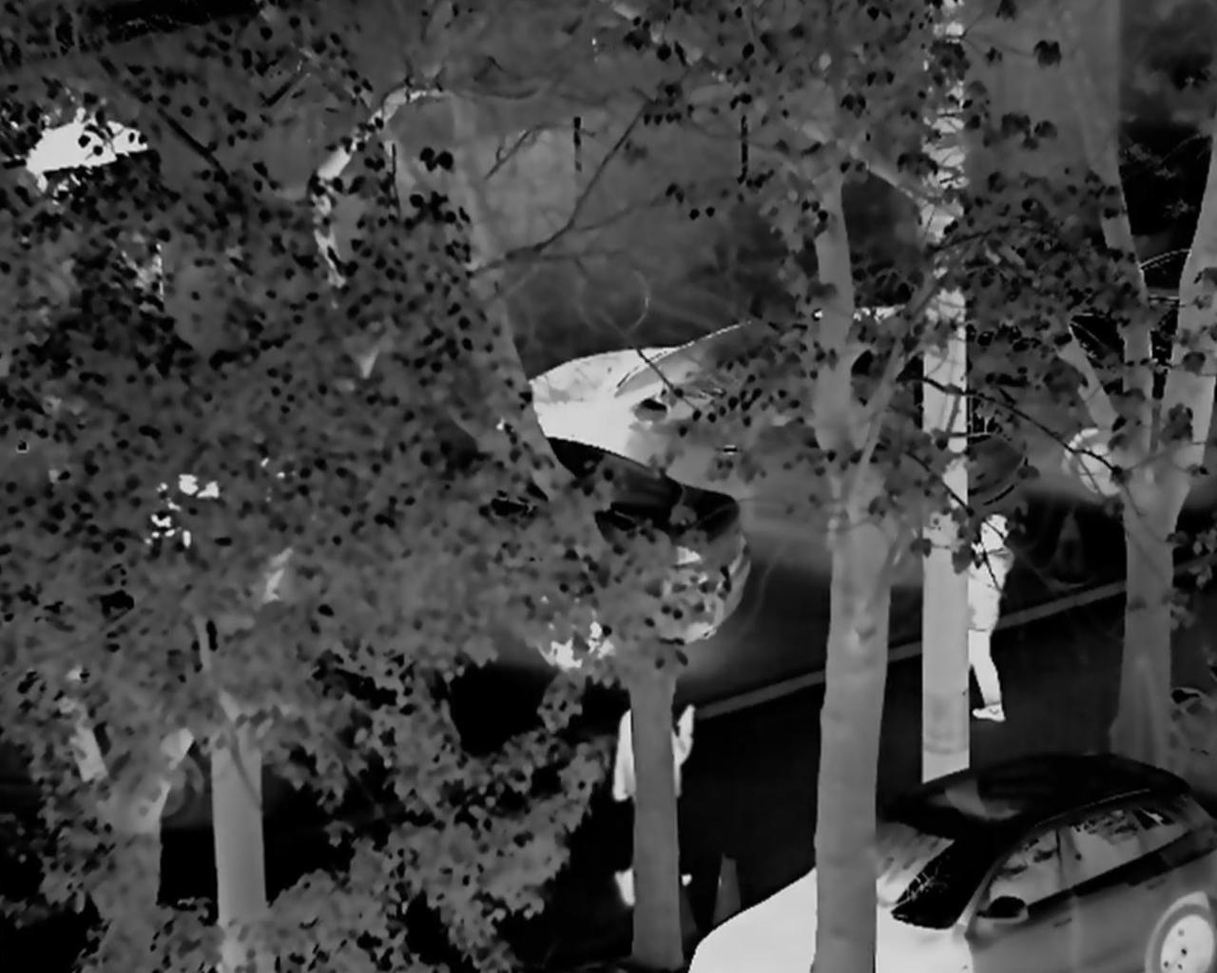person: (616, 693, 696, 901), (953, 499, 1010, 724)
